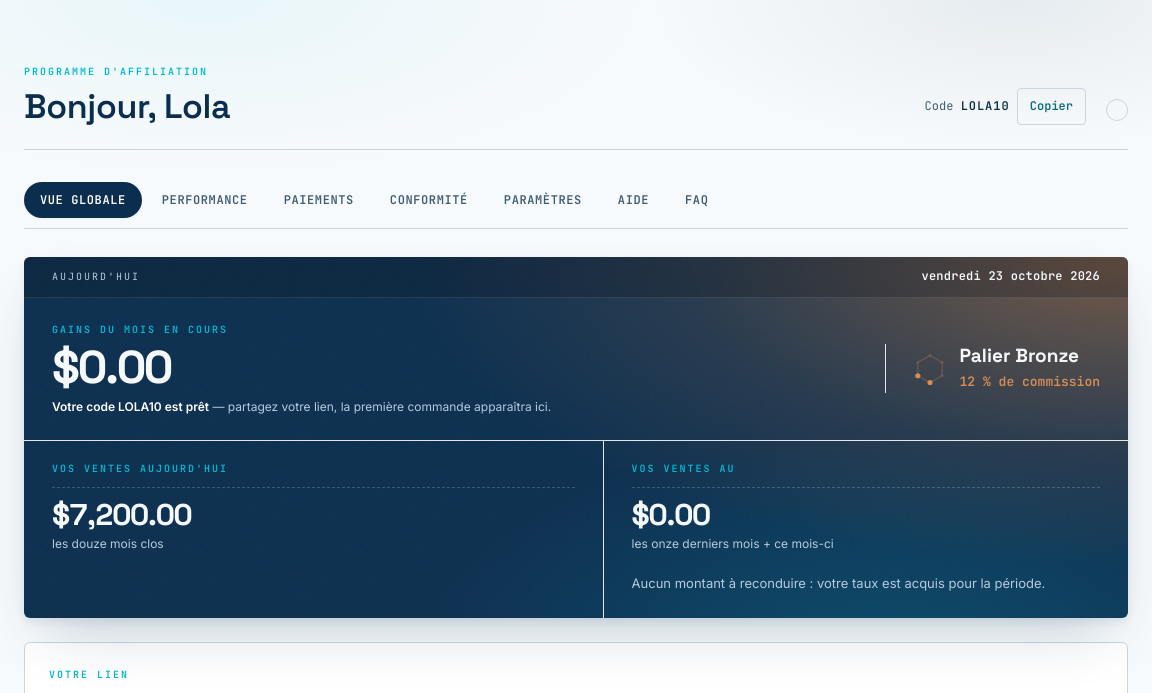
Test: le flux d'activité › le statut est traduit, plus jamais « PAID_MANUAL »
Click the button "Paiements" at (319, 200), box [268, 182, 370, 218]
(page scrolled)
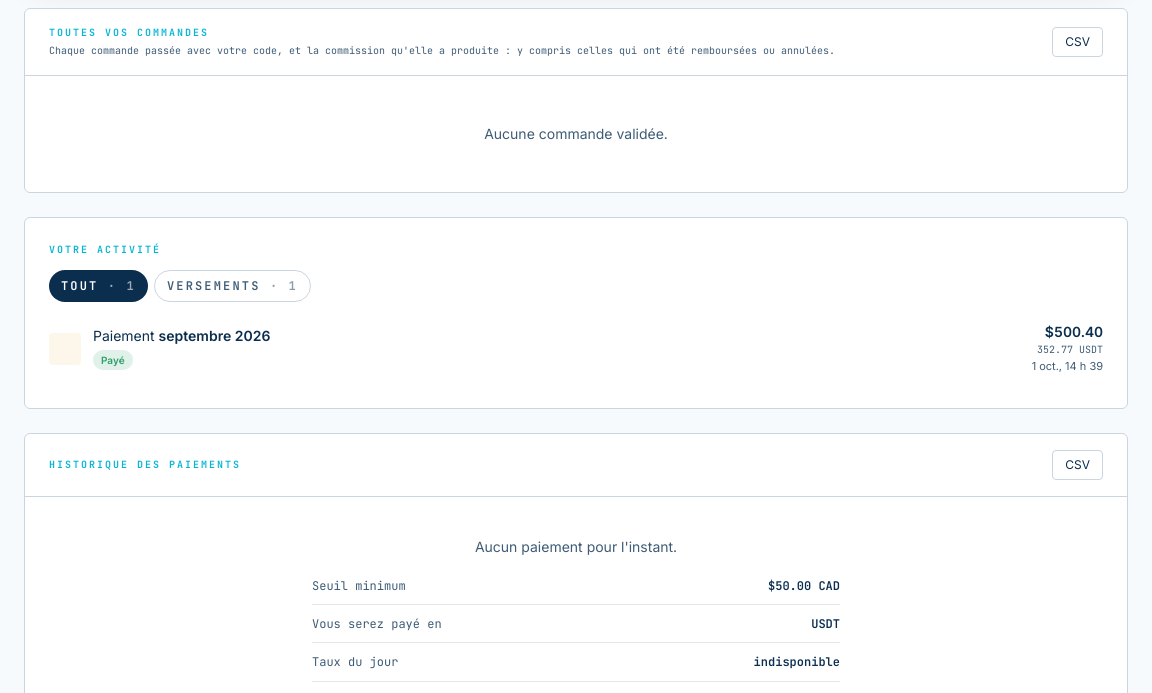
Expected: the text with test id "activite-statut-versement" shows "Pay", [93, 350, 133, 370]
